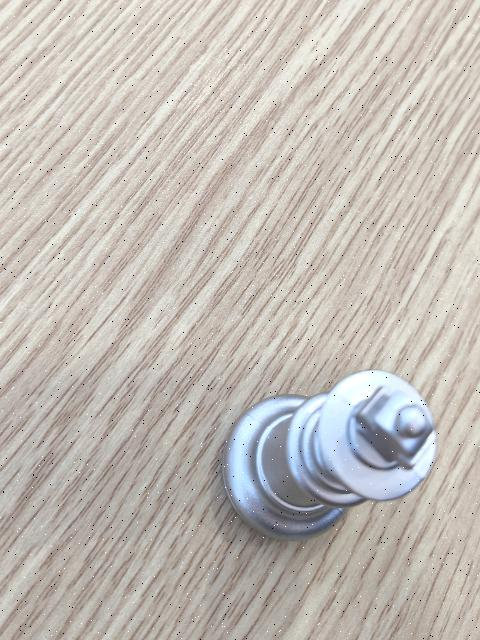white_king: (223, 367, 441, 540)
